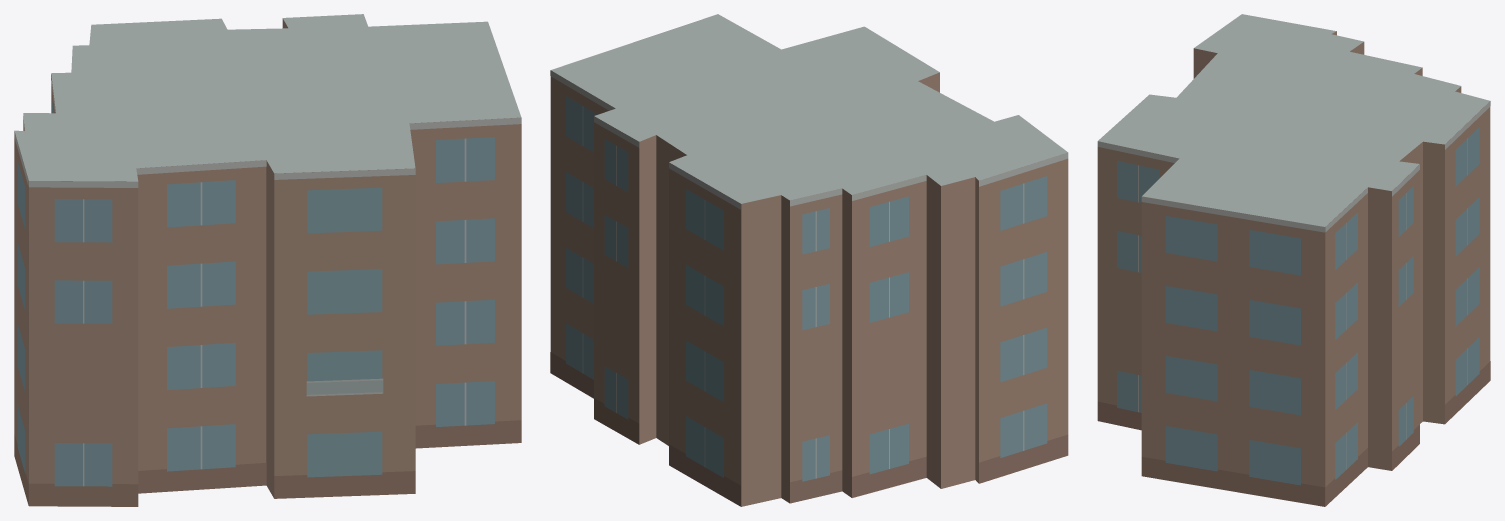
File: survey-upis-32648239.glb
3 views of the same model, side by side, from view 1: azimuth 30°, elevation 25°; view 2: azimuth 150°, elevation 25°; view 3: azimuth 270°, elevation 25° (orthographic). The views are drawn at different scales.
Visible parts, largest first — view 1: survey-upis-32648239.tmp; view 2: survey-upis-32648239.tmp; view 3: survey-upis-32648239.tmp.
Boxes of the visible parts, x1,y1,x2,y2 form: survey-upis-32648239.tmp: (14,14,521,506); survey-upis-32648239.tmp: (550,14,1068,506); survey-upis-32648239.tmp: (1097,14,1490,506).
Size of the model in its own units: 19.93 by 12.2 by 15.53.
